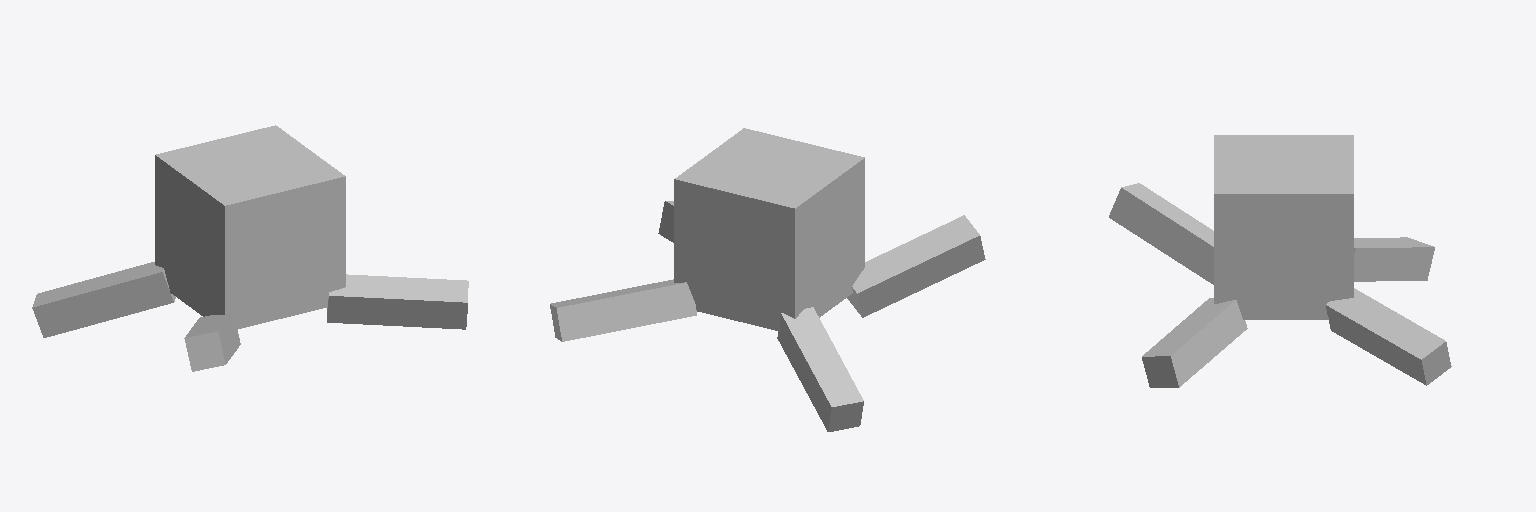
Rendered from JumpingBox_000009.obj.
3 views of the same model, side by side, from view 1: azimuth 30°, elevation 25°; view 2: azimuth 150°, elevation 25°; view 3: azimuth 270°, elevation 25° (orthographic).
Visible parts, largest first — view 1: Cube, Cube.004_Cube.005, Cube.001_Cube.003, Cube.002; view 2: Cube, Cube.002, Cube.001_Cube.003, Cube.003_Cube.004; view 3: Cube, Cube.003_Cube.004, Cube.002, Cube.004_Cube.005, Cube.001_Cube.003.
Part boxes in pixels (x1,y1,x2,y2): Cube: (155, 125, 345, 329); Cube.004_Cube.005: (327, 274, 468, 329); Cube.001_Cube.003: (32, 262, 175, 337); Cube.002: (184, 314, 240, 371); Cube: (674, 128, 864, 331); Cube.002: (847, 215, 985, 317); Cube.001_Cube.003: (777, 307, 863, 431); Cube.003_Cube.004: (550, 279, 696, 341); Cube: (1214, 135, 1353, 319); Cube.003_Cube.004: (1326, 288, 1451, 385); Cube.002: (1109, 183, 1213, 284); Cube.004_Cube.005: (1142, 298, 1247, 387); Cube.001_Cube.003: (1354, 237, 1434, 281).
Size of the model in its own units: 5.29 by 2.84 by 4.91.